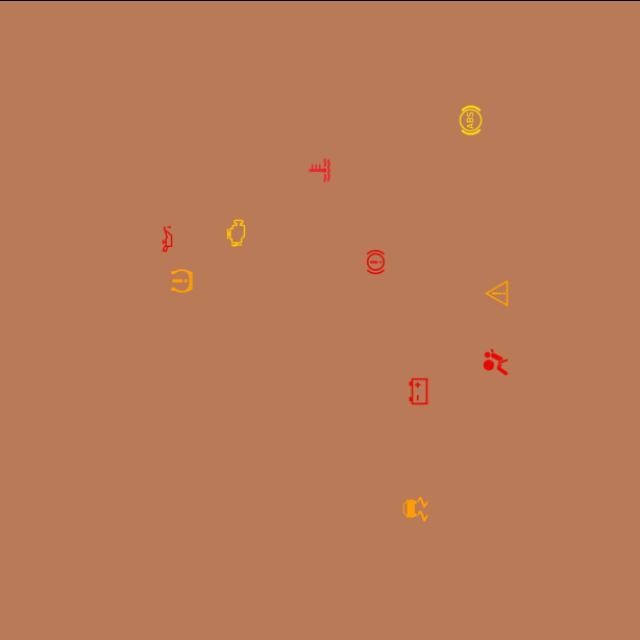Anti Lock Braking System: (454, 104, 486, 136)
Braking System Issue: (360, 245, 392, 277)
Charging System Issue: (402, 374, 434, 406)
Check Engine: (220, 216, 252, 248)
Electronic Stability Problem -ESP-: (399, 492, 432, 524)
Engine Overheating Warning Light: (304, 154, 336, 186)
Low Engine Oil Warning Light: (152, 222, 184, 254)
Low Tire Pressure Warning Light: (166, 264, 198, 296)
Master warning light: (480, 276, 512, 308)
SRS-Airbag: (479, 345, 512, 377)
